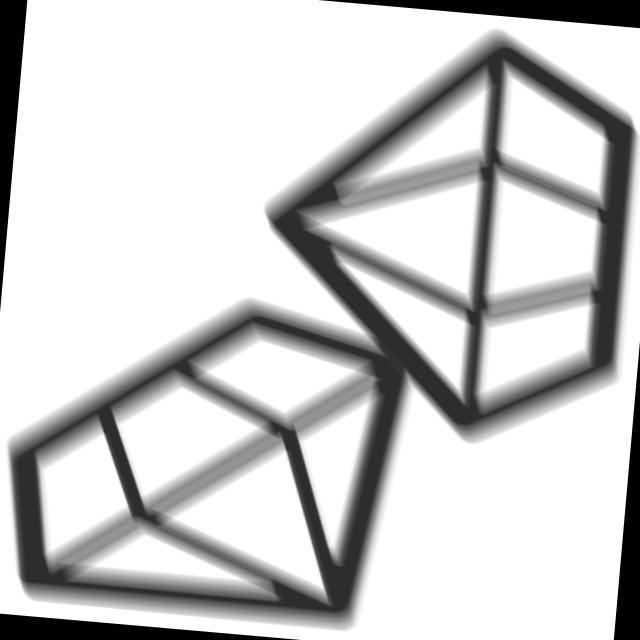diamond: (234, 1, 640, 468), (1, 260, 437, 640)
